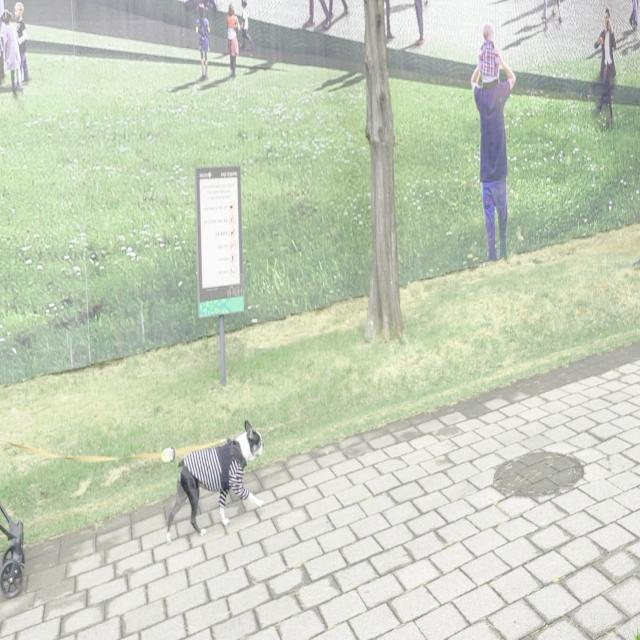Dog: (166, 419, 264, 546)
